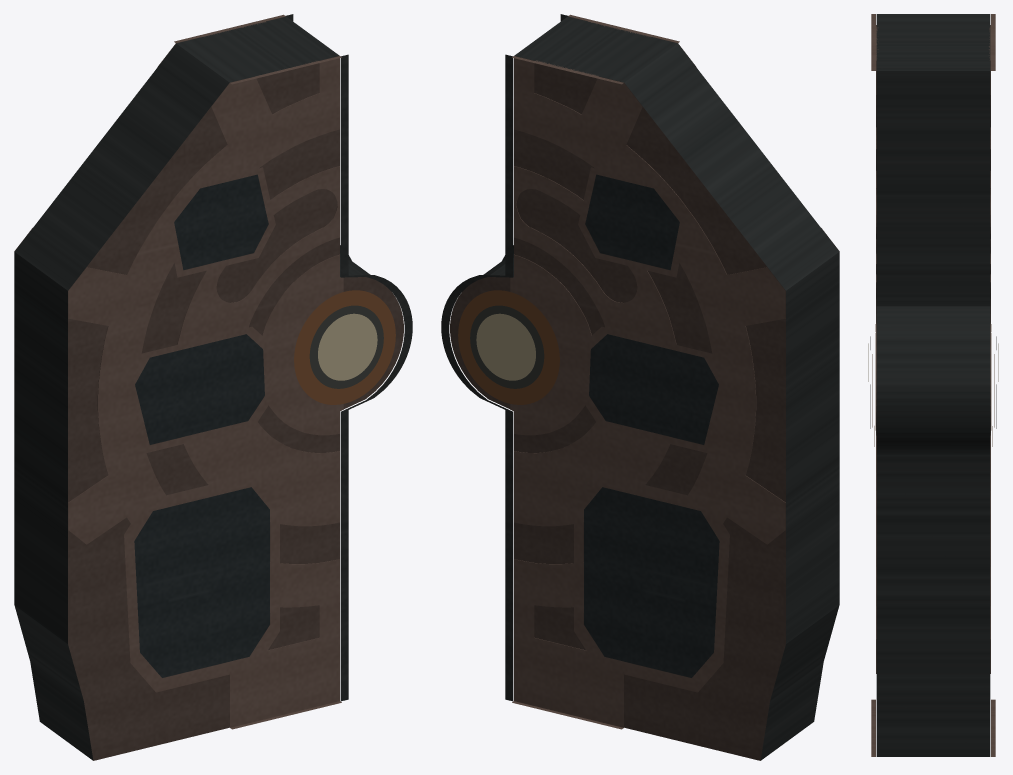
File: destiny_shuttle_door_left.obj
The picture shows the model from 3 angles, left to right: view 1: azimuth 30°, elevation 25°; view 2: azimuth 150°, elevation 25°; view 3: azimuth 270°, elevation 25°; orthographic projection. The views are drawn at different scales.
Parts seen in each view (by area): view 1: Original_hatch_left, Destiny_console_center_lock_emblem; view 2: Original_hatch_left, Destiny_console_center_lock_emblem; view 3: Original_hatch_left, Destiny_console_center_lock_emblem.
Boxes of the visible parts, left/top/right/bottom form: Original_hatch_left: left=14, top=14, right=412, bottom=760; Destiny_console_center_lock_emblem: left=294, top=290, right=395, bottom=404; Original_hatch_left: left=441, top=14, right=839, bottom=760; Destiny_console_center_lock_emblem: left=458, top=290, right=559, bottom=404; Original_hatch_left: left=871, top=14, right=995, bottom=756; Destiny_console_center_lock_emblem: left=868, top=324, right=998, bottom=446.
Size of the model in its own units: 1.79 by 3.2 by 0.5527.
